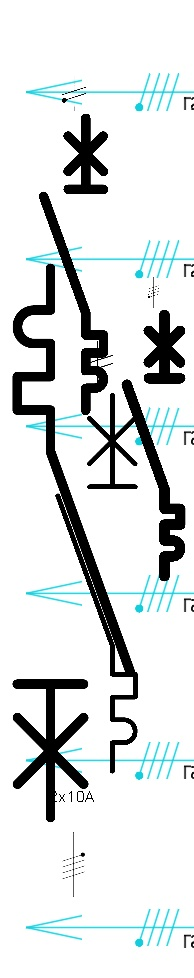interruptor_termomagnetico: (3, 254, 144, 832), (48, 385, 145, 780), (36, 110, 111, 418), (120, 308, 187, 583)
